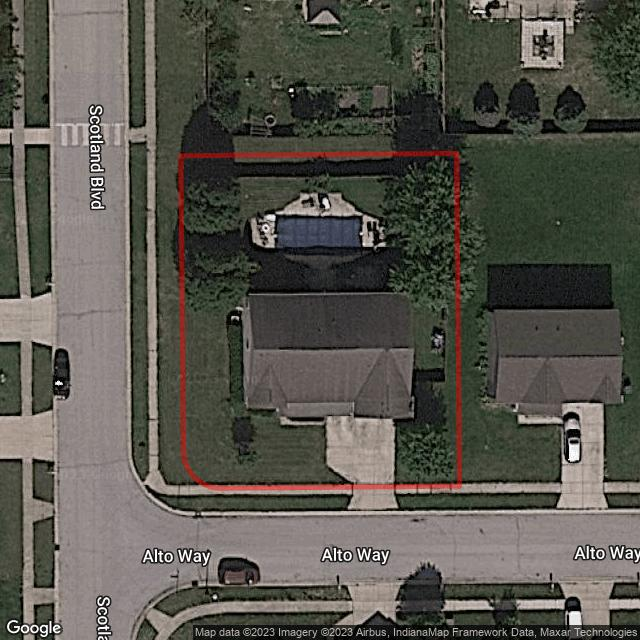Driveway: (325, 416, 395, 484)
Extra Driveway: (348, 490, 398, 510)
Extra Lawn: (154, 157, 194, 486), (127, 157, 152, 485), (146, 490, 349, 513), (398, 492, 463, 512)
Extra Sidewalk: (145, 155, 217, 498), (396, 484, 458, 495)
House: (241, 292, 415, 426)
Other: (251, 192, 387, 291)
